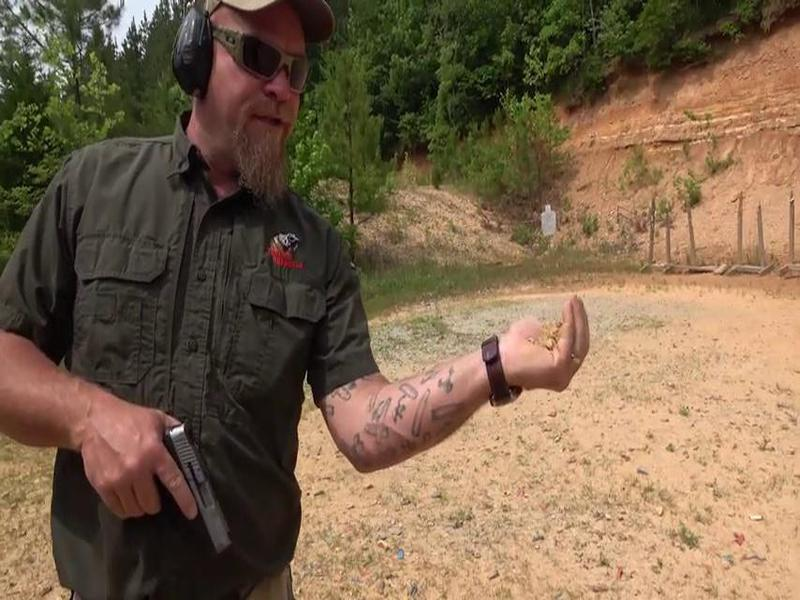Pistola: (137, 396, 244, 576)
